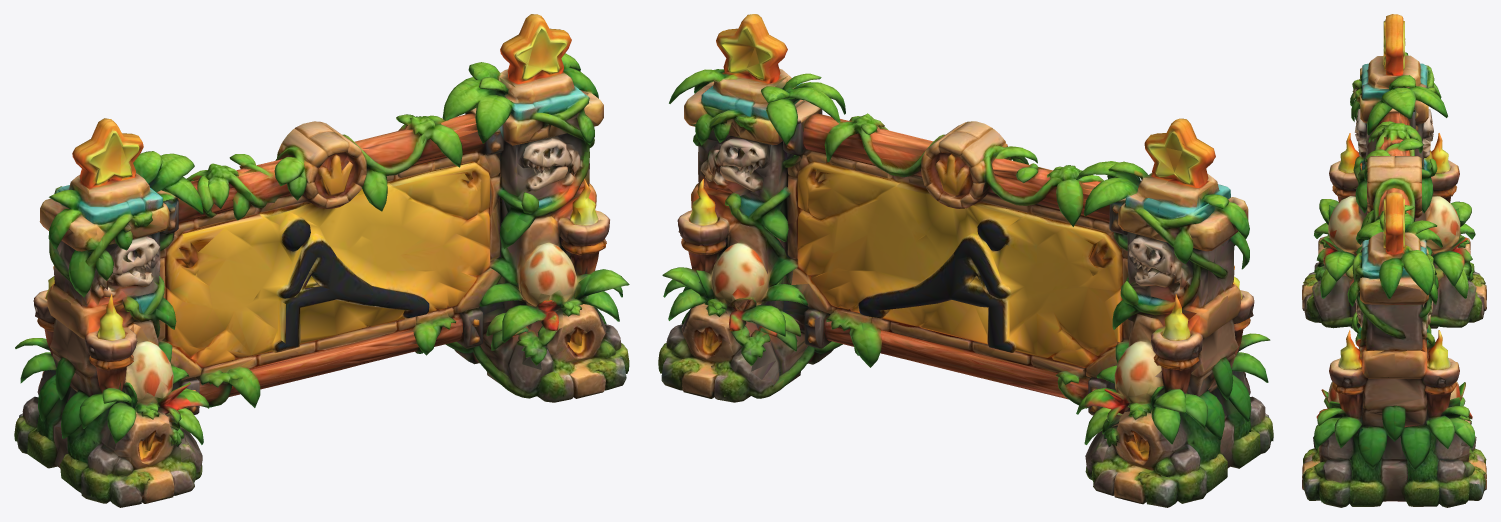
Rendered from sign_lunge.glb.
3 renders of one model, left to right at view 1: azimuth 30°, elevation 25°; view 2: azimuth 150°, elevation 25°; view 3: azimuth 270°, elevation 25°, orthographic. The views are drawn at different scales.
Parts seen in each view (by area): view 1: sign_lunge; view 2: sign_lunge; view 3: sign_lunge.
Part boxes in pixels (x1=…): sign_lunge: x1=14, y1=14, x2=629, y2=507; sign_lunge: x1=658, y1=14, x2=1273, y2=507; sign_lunge: x1=1302, y1=14, x2=1486, y2=507.
Size of the model in its own units: 15 by 8.89 by 5.09.
1 material, 1 textured.
